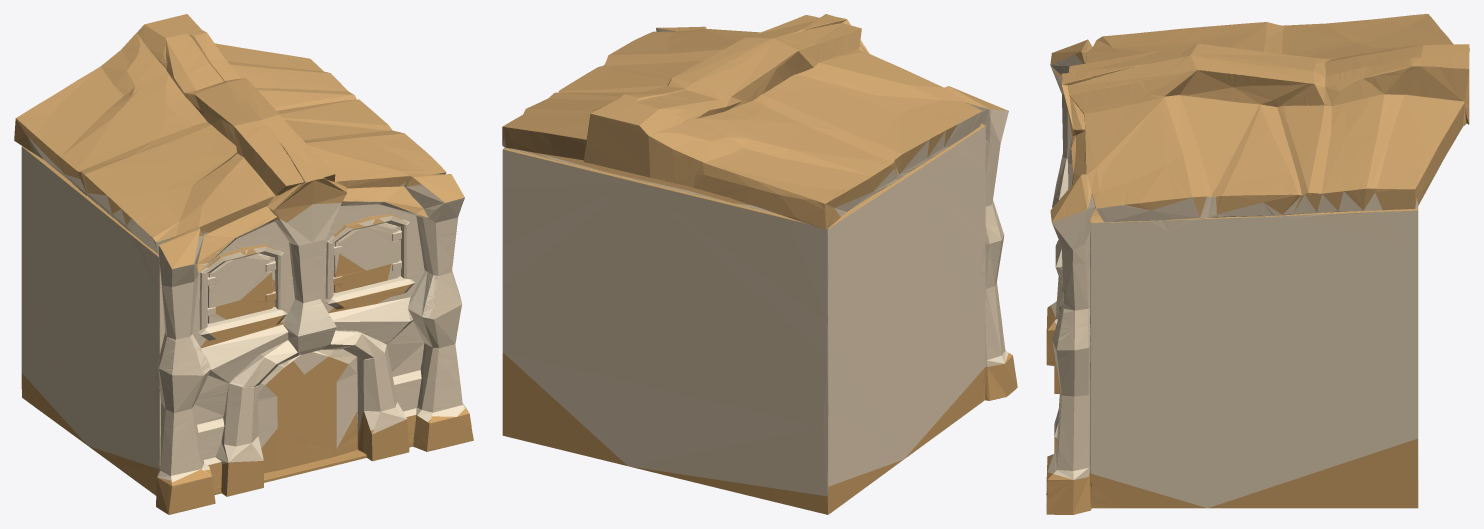
File: maison_mitoyenne.glb
The picture shows the model from 3 angles, left to right: view 1: azimuth 30°, elevation 25°; view 2: azimuth 150°, elevation 25°; view 3: azimuth 270°, elevation 25°; orthographic projection. The views are drawn at different scales.
Visible parts, largest first — view 1: Maison mitoyenne; view 2: Maison mitoyenne; view 3: Maison mitoyenne.
Part boxes in pixels (x1=…): Maison mitoyenne: x1=14, y1=14, x2=473, y2=514; Maison mitoyenne: x1=502, y1=14, x2=1017, y2=514; Maison mitoyenne: x1=1046, y1=14, x2=1469, y2=514.
Bounding box in the file's own units: 1 × 1 × 1.
